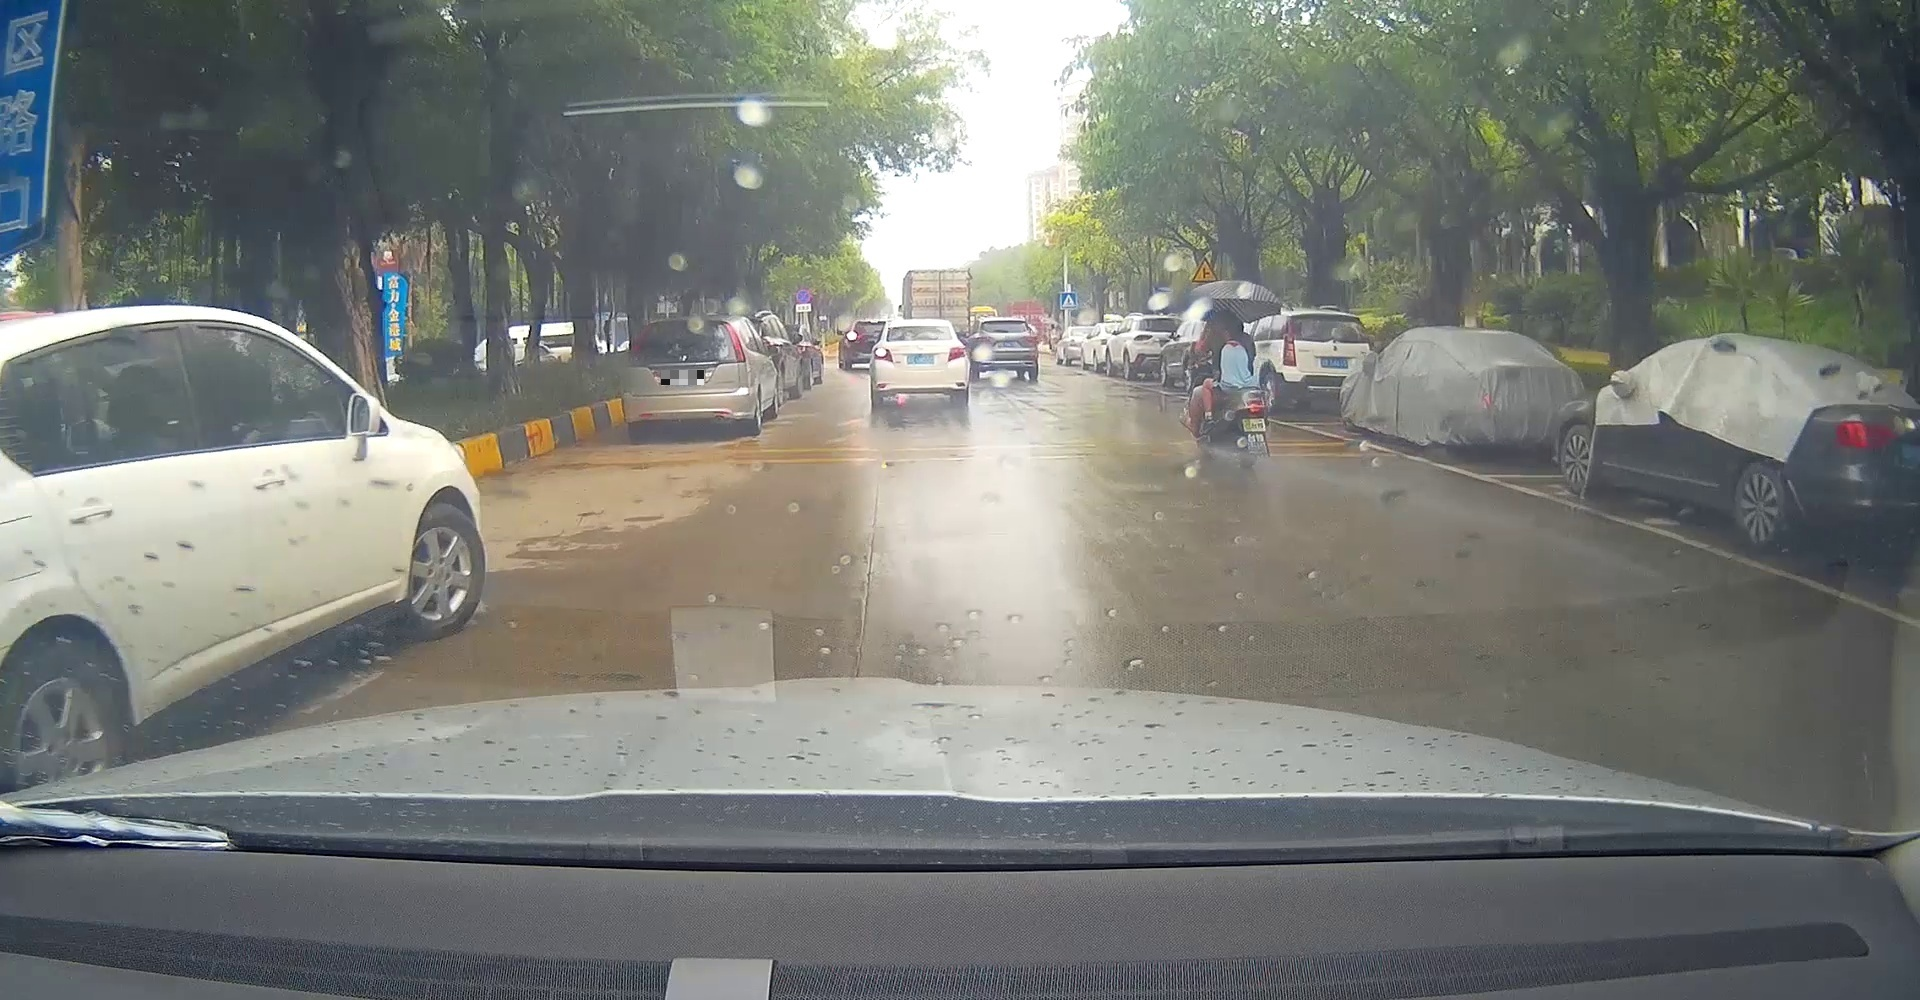L_light: (625, 324, 651, 367), (872, 346, 894, 363), (977, 336, 993, 345)
R_light: (720, 321, 745, 362), (946, 346, 968, 362), (1022, 335, 1037, 345)
T_light: (674, 320, 690, 324), (914, 339, 930, 341), (1001, 321, 1011, 322)
day-left: (871, 320, 969, 410)
day-no: (621, 316, 753, 440), (971, 317, 1037, 382)
plate_1: (662, 371, 703, 385)
